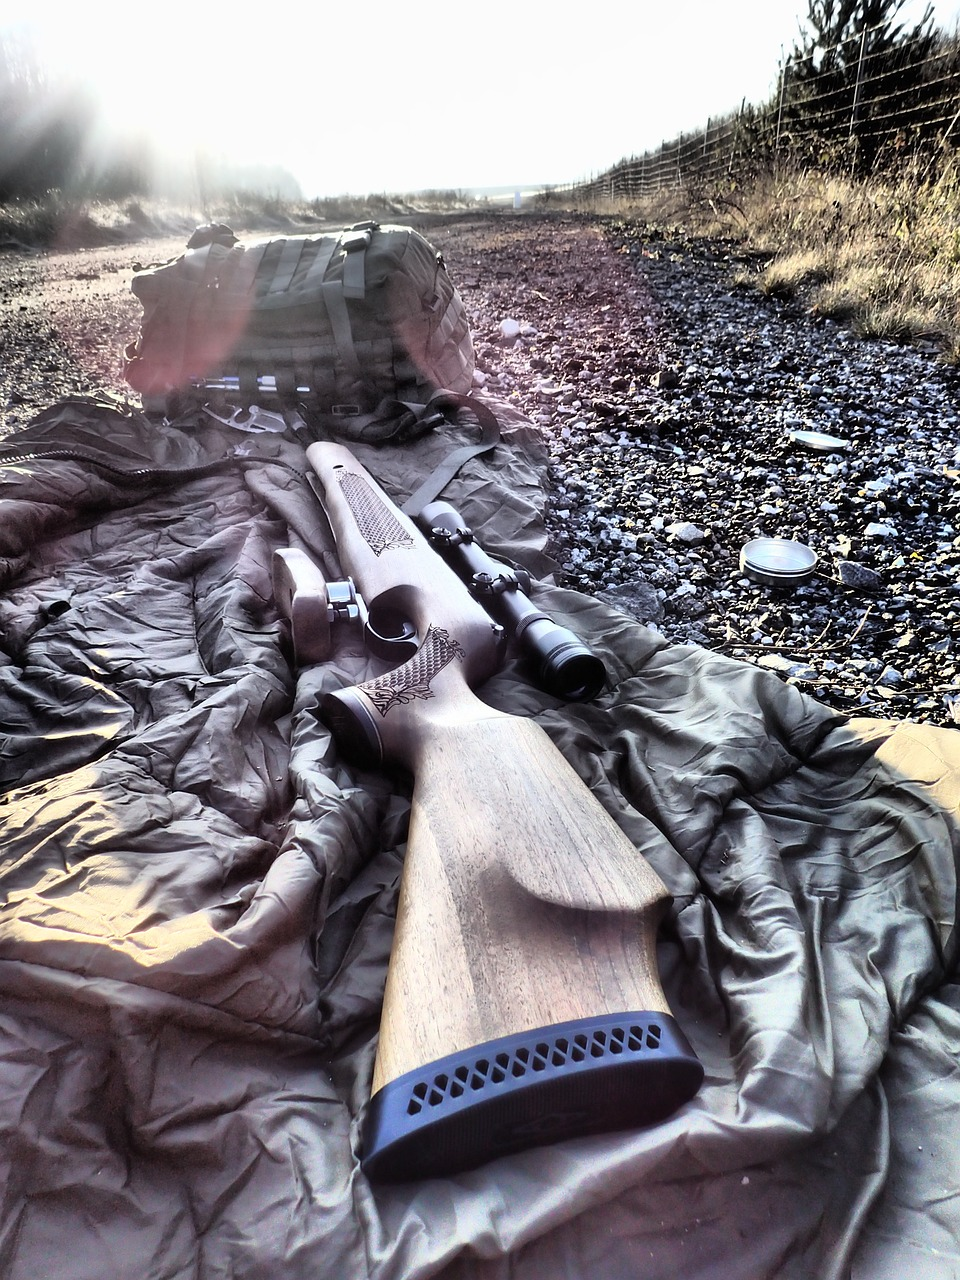gun: (263, 394, 713, 1193)
